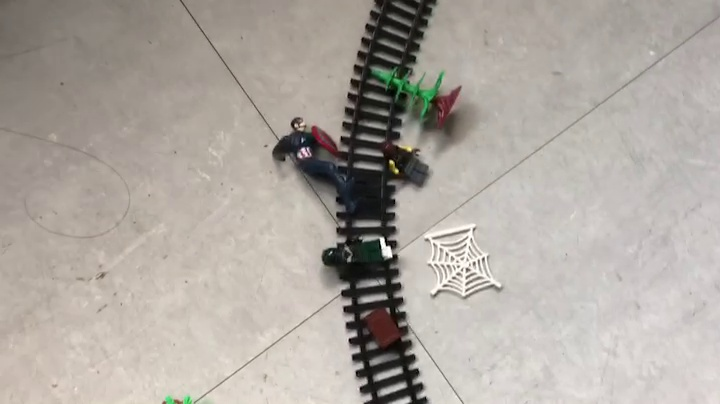box: (361, 307, 403, 349)
people: (270, 116, 363, 213), (319, 233, 394, 273), (378, 140, 431, 190)
tree: (369, 67, 464, 130)
web: (421, 222, 502, 300)
